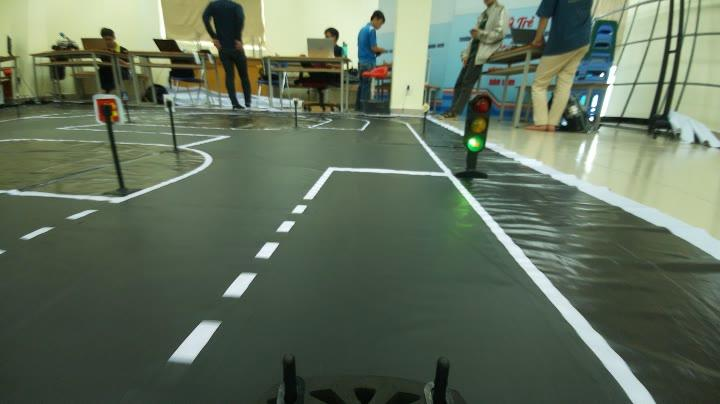trafficlight: (454, 92, 507, 190)
